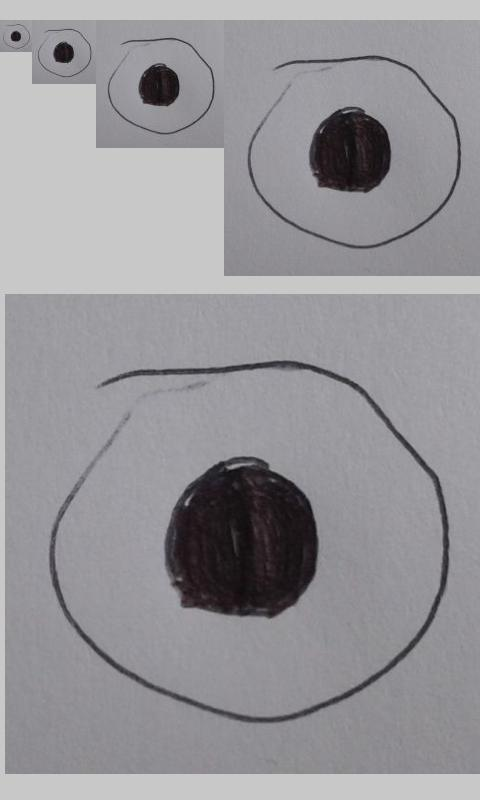radio_button: (46, 356, 453, 726), (245, 53, 462, 250), (107, 36, 216, 136), (36, 28, 93, 79), (2, 23, 31, 50)
